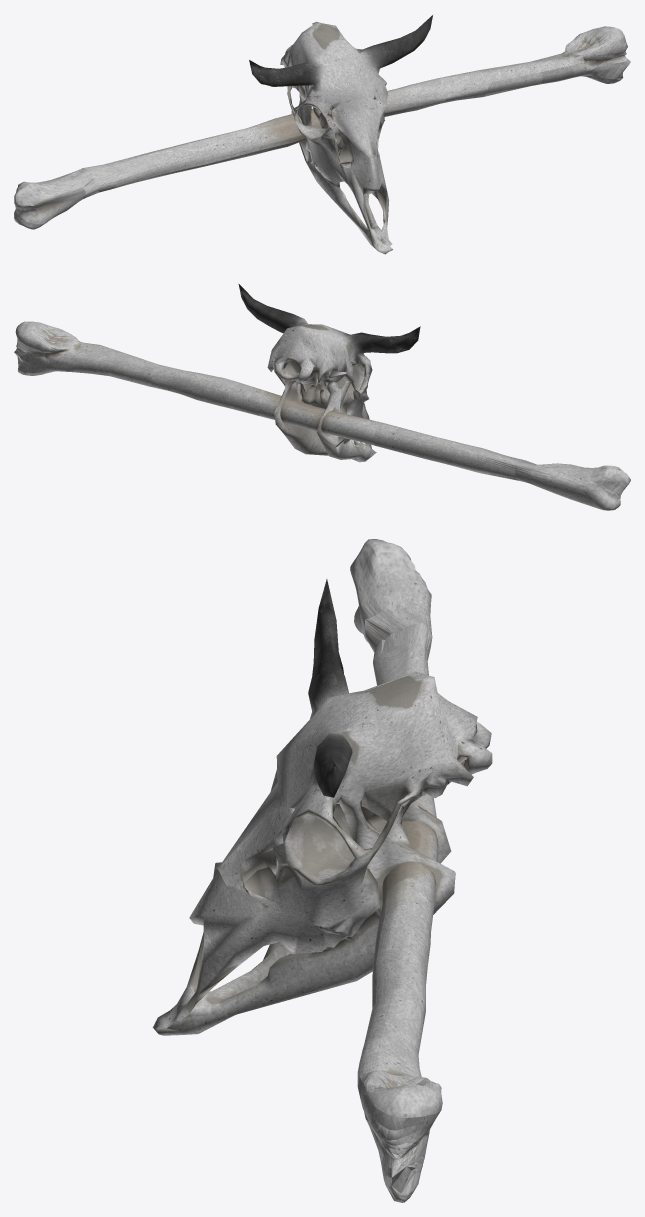
The model's file is topping_8.glb.
3 renders of one model, top to bottom at view 1: azimuth 30°, elevation 25°; view 2: azimuth 150°, elevation 25°; view 3: azimuth 270°, elevation 25°, orthographic. The views are drawn at different scales.
Parts seen in each view (by area): view 1: palka_9; view 2: palka_9; view 3: palka_9.
Part boxes in pixels (<box>): palka_9: <box>14,15,630,254</box>; palka_9: <box>14,284,630,510</box>; palka_9: <box>152,539,492,1202</box>.
Size of the model in its own units: 91.94 by 26.51 by 22.19.
2 materials, 2 textured.
